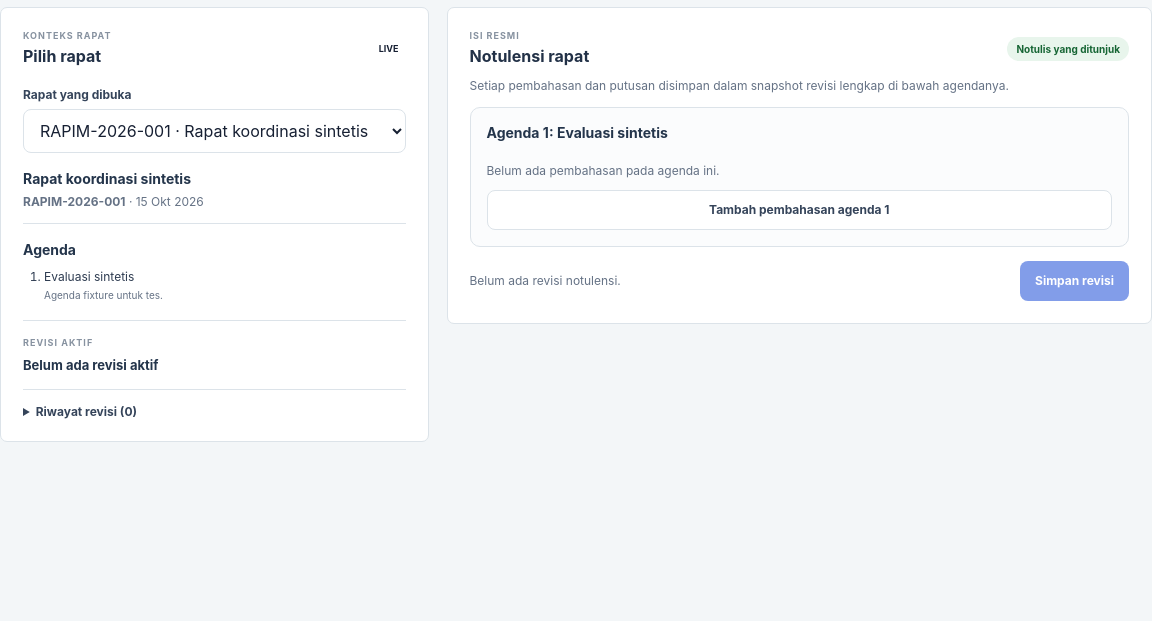
Test: MinutesEditor › creates one complete structured snapshot from the agenda editor
Expected: the text "Belum ada pembahasan pada agenda ini." is shown, [486,162,720,178]
Click the button "Tambah pembahasan agenda 1" at (799, 210), box [486,190,1112,230]
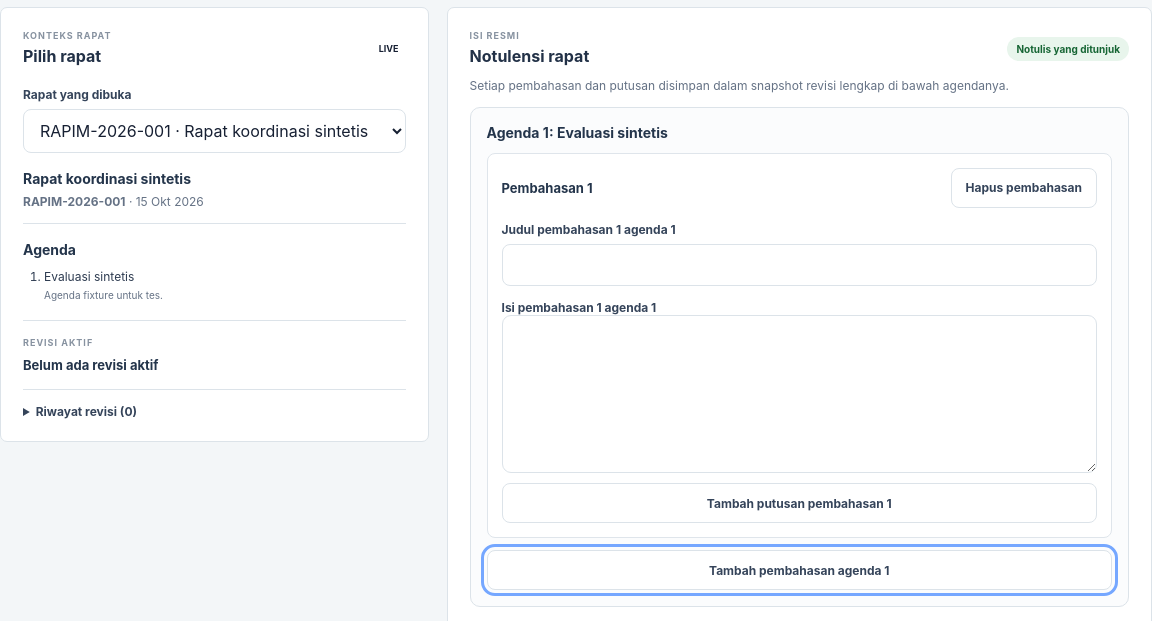
Type "Evaluasi triwulan" into the field labelled "Judul pembahasan 1 agenda 1" at (799, 264), box [502,244,1097,286]
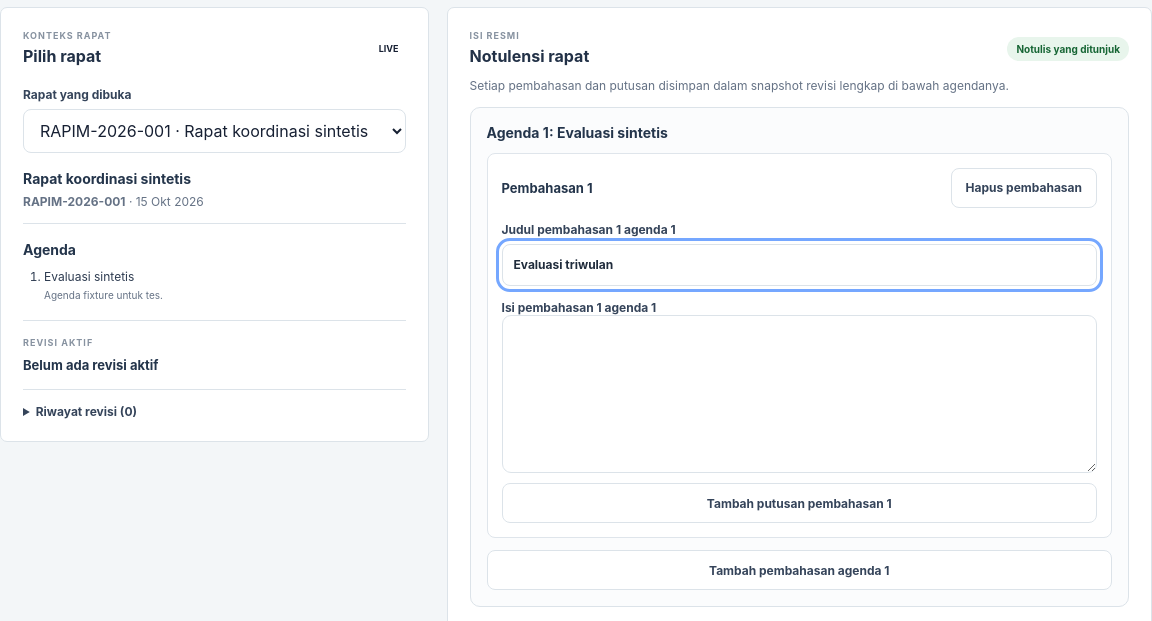
Type "Pembahasan baru sintetis." into the text box labelled "Isi pembahasan 1 agenda 1" at (799, 394), box [502,314,1097,473]
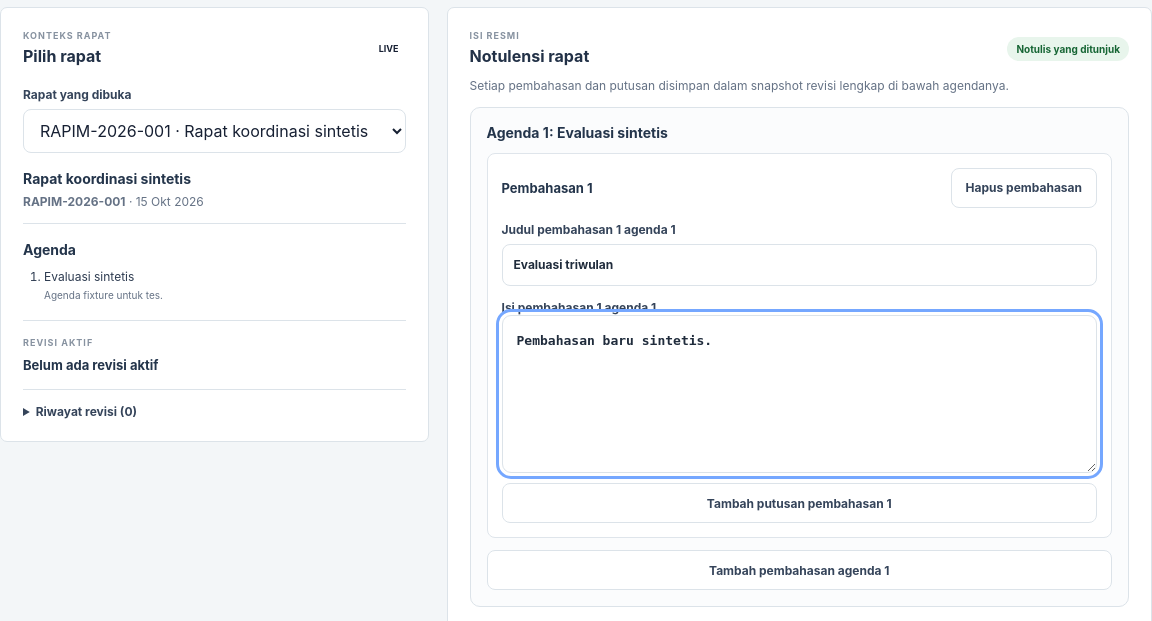
Click the button "Tambah putusan pembahasan 1" at (799, 503), box [502,483,1097,523]
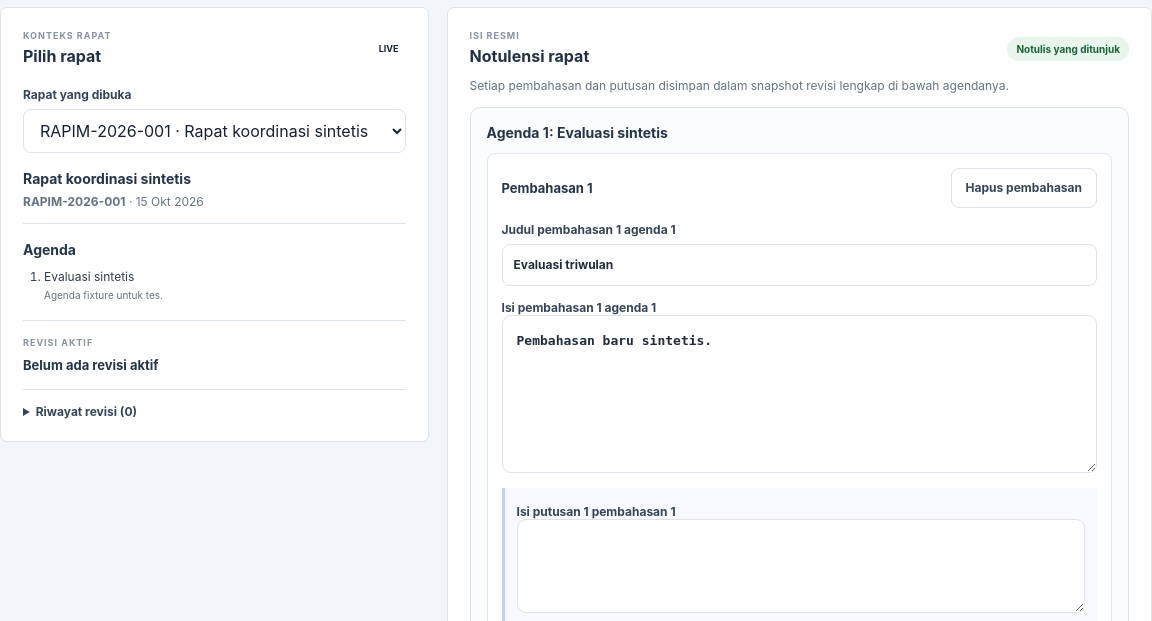
Type "Lengkapi laporan" into the text box labelled "Isi putusan 1 pembahasan 1" at (801, 566), box [516,519,1085,614]
(page scrolled)
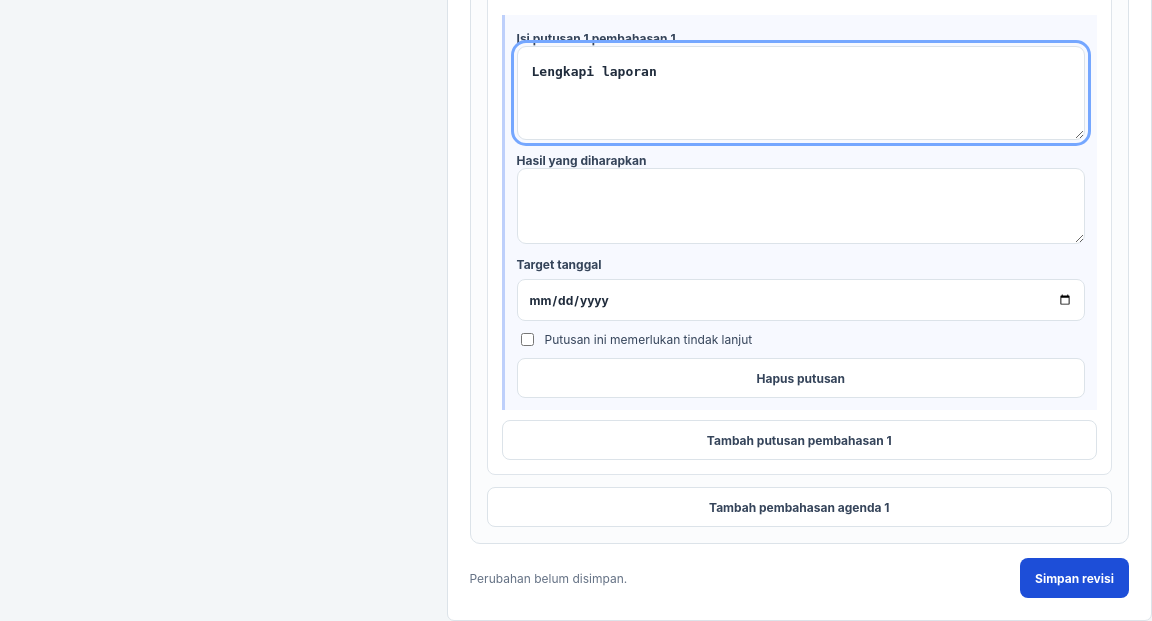
Click the button "Simpan revisi" at (1074, 578), box [1020,558,1129,598]
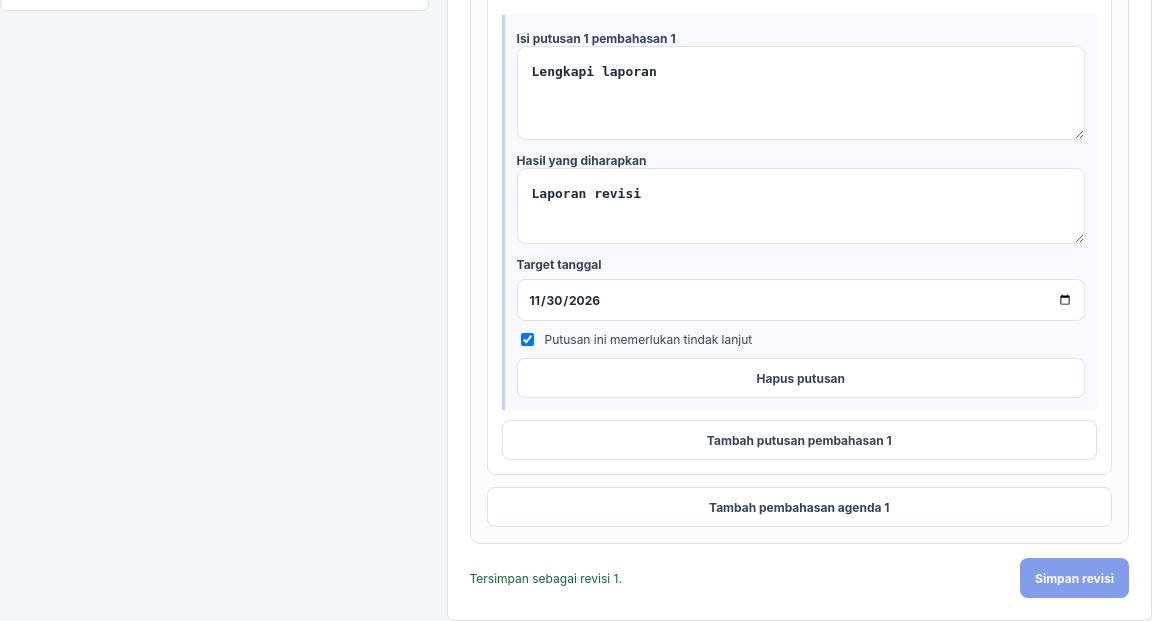
Result: the text "Tersimpan sebagai revisi 1." is shown at [470,571,622,586]
